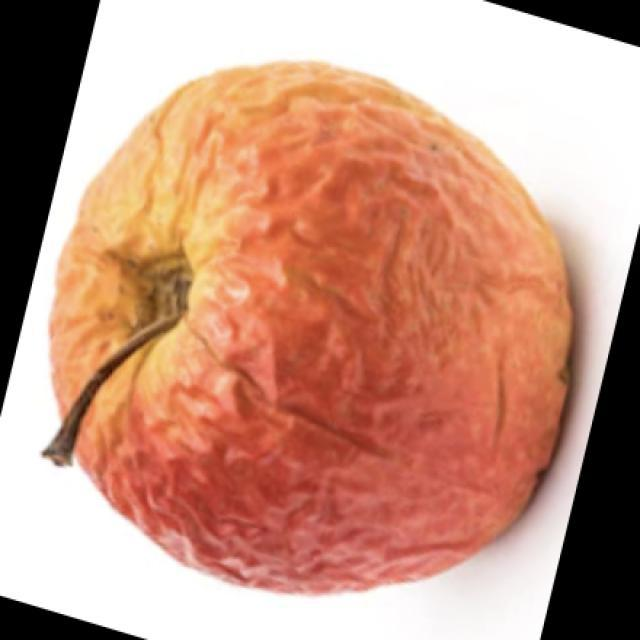Rotten: (65, 52, 623, 588)
